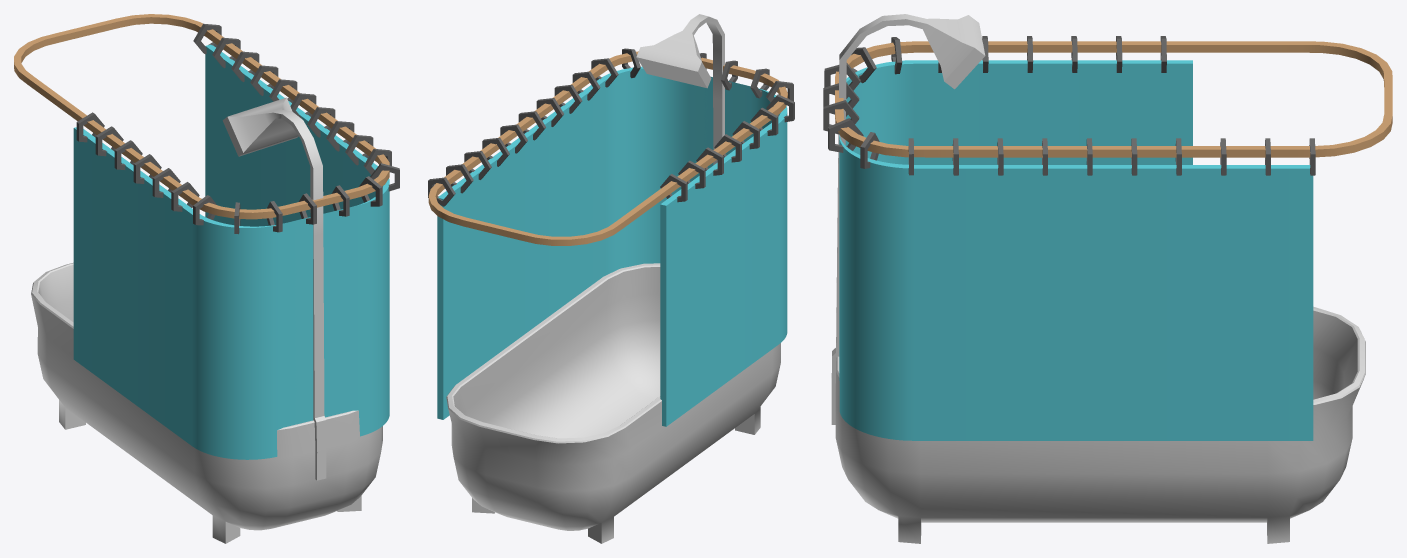
File: Asset013_Banheira.fbx
3 views of the same model, side by side, from view 1: azimuth 30°, elevation 25°; view 2: azimuth 150°, elevation 25°; view 3: azimuth 270°, elevation 25° (orthographic). The views are drawn at different scales.
Parts seen in each view (by area): view 1: Sweep_1, Banheira, Sweep; view 2: Sweep_1, Banheira, Sweep; view 3: Sweep_1, Banheira, Sweep.
Part boxes in pixels (x1,y1,x2,y2): Sweep_1: (73, 44, 389, 459); Banheira: (31, 97, 382, 543); Sweep: (14, 14, 389, 219); Sweep_1: (437, 66, 787, 426); Banheira: (446, 14, 780, 543); Sweep: (428, 51, 787, 245); Sweep_1: (839, 60, 1313, 440); Banheira: (831, 14, 1365, 543); Sweep: (835, 41, 1392, 157).
Size of the model in its own units: 119 by 227 by 241.
